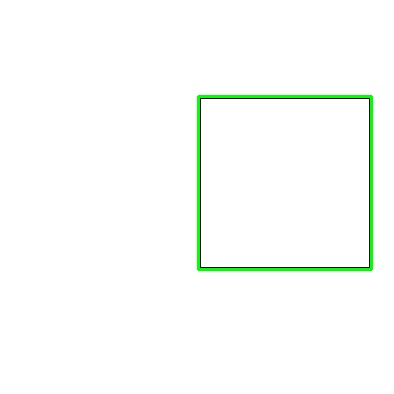line_segment: (197, 95, 373, 271)
